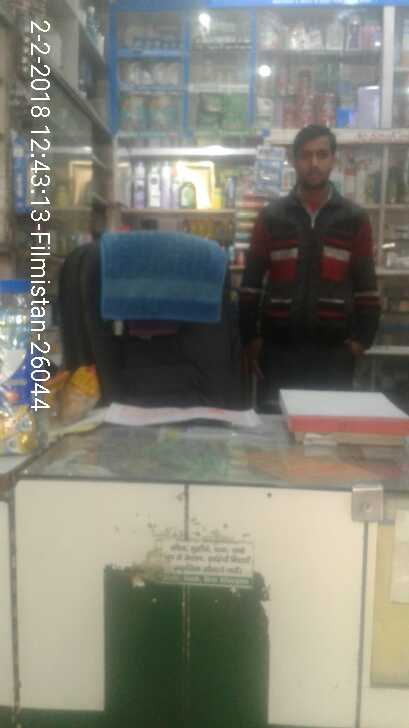vicks: (131, 34, 187, 50)
